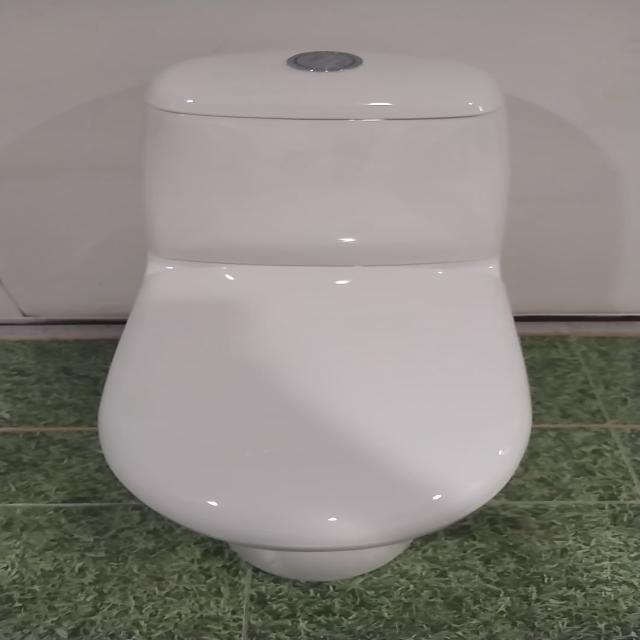toilet: (96, 49, 534, 581)
